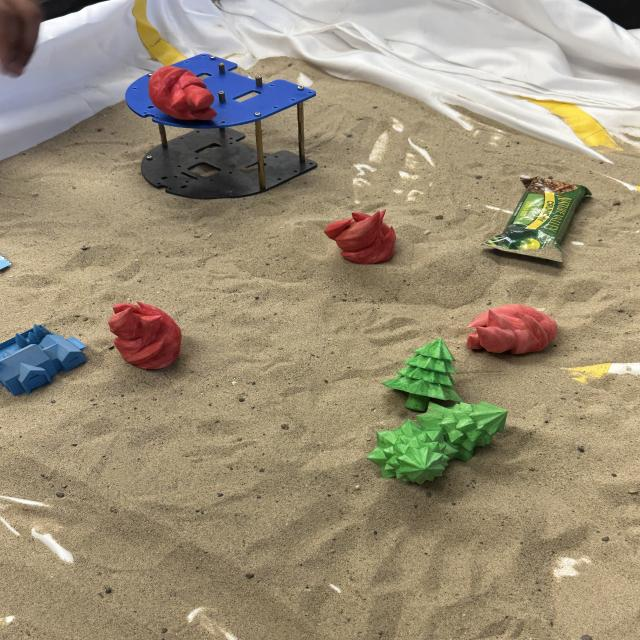fire: (106, 299, 183, 371), (468, 303, 559, 356), (322, 208, 398, 266), (149, 66, 219, 122)
house: (0, 322, 91, 395)
tree: (382, 338, 464, 410), (419, 402, 510, 462), (368, 420, 450, 485)
